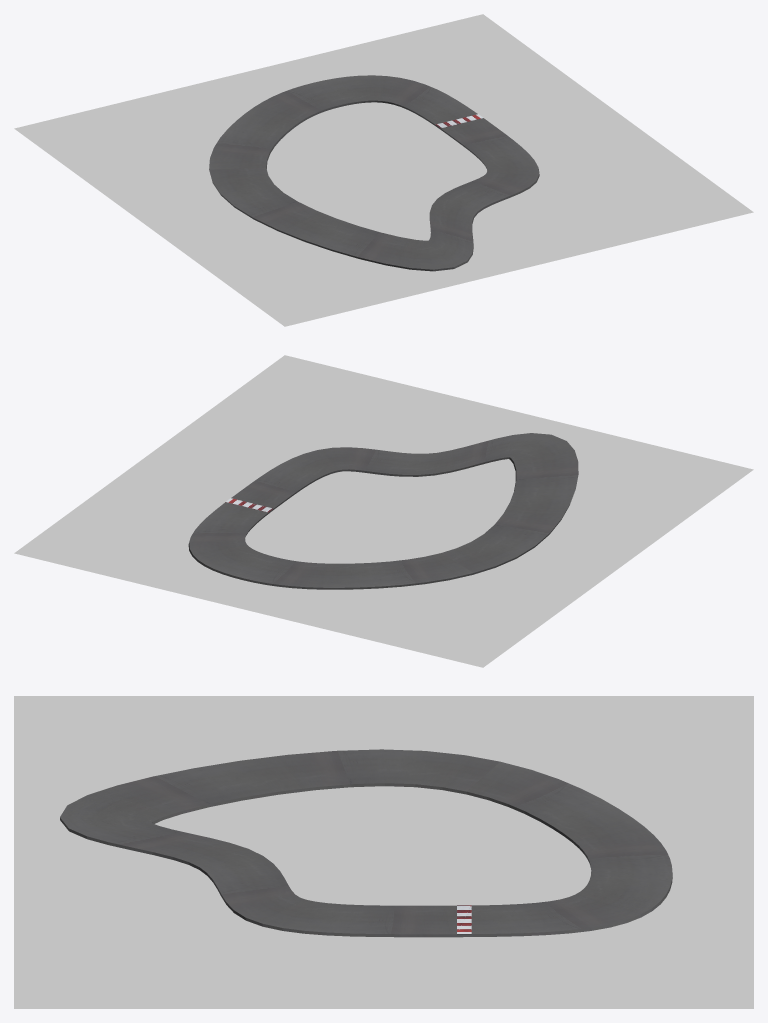
The model's file is race_track.fbx.
3 renders of one model, top to bottom at view 1: azimuth 30°, elevation 25°; view 2: azimuth 150°, elevation 25°; view 3: azimuth 270°, elevation 25°, orthographic. The views are drawn at different scales.
Parts seen in each view (by area): view 1: Land, Road; view 2: Land, Road; view 3: Land, Road.
Part boxes in pixels (bbox=[...]): Land: bbox=[14, 14, 753, 326]; Road: bbox=[209, 75, 539, 271]; Land: bbox=[14, 355, 753, 667]; Road: bbox=[188, 433, 578, 589]; Land: bbox=[14, 696, 753, 1008]; Road: bbox=[60, 749, 672, 937].
Size of what is drawn, in the model's own units: 19360 by 118 by 19360.
2 materials, 1 textured.
